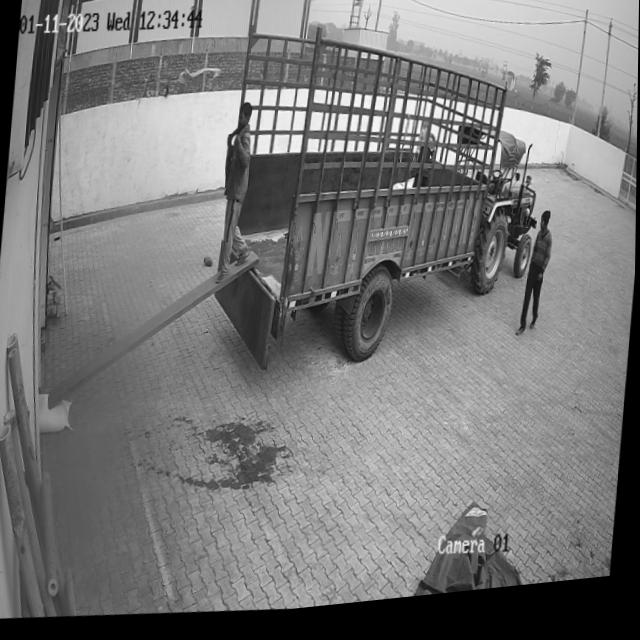sack: (36, 391, 74, 436)
